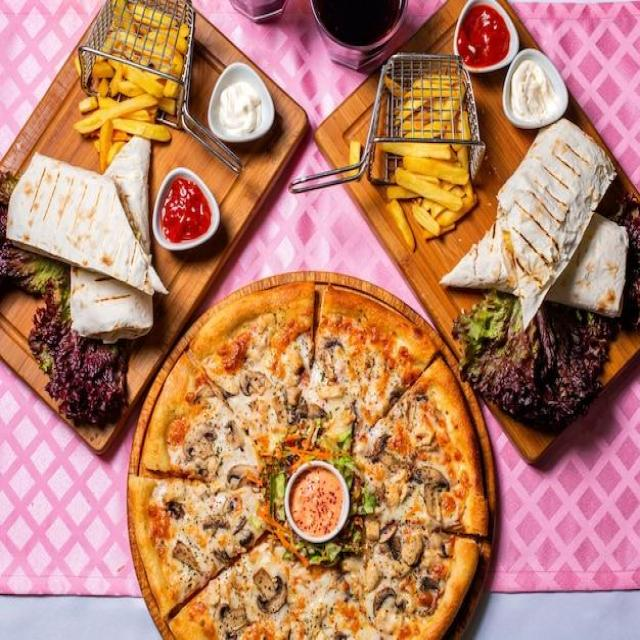pizza: (129, 278, 489, 640)
